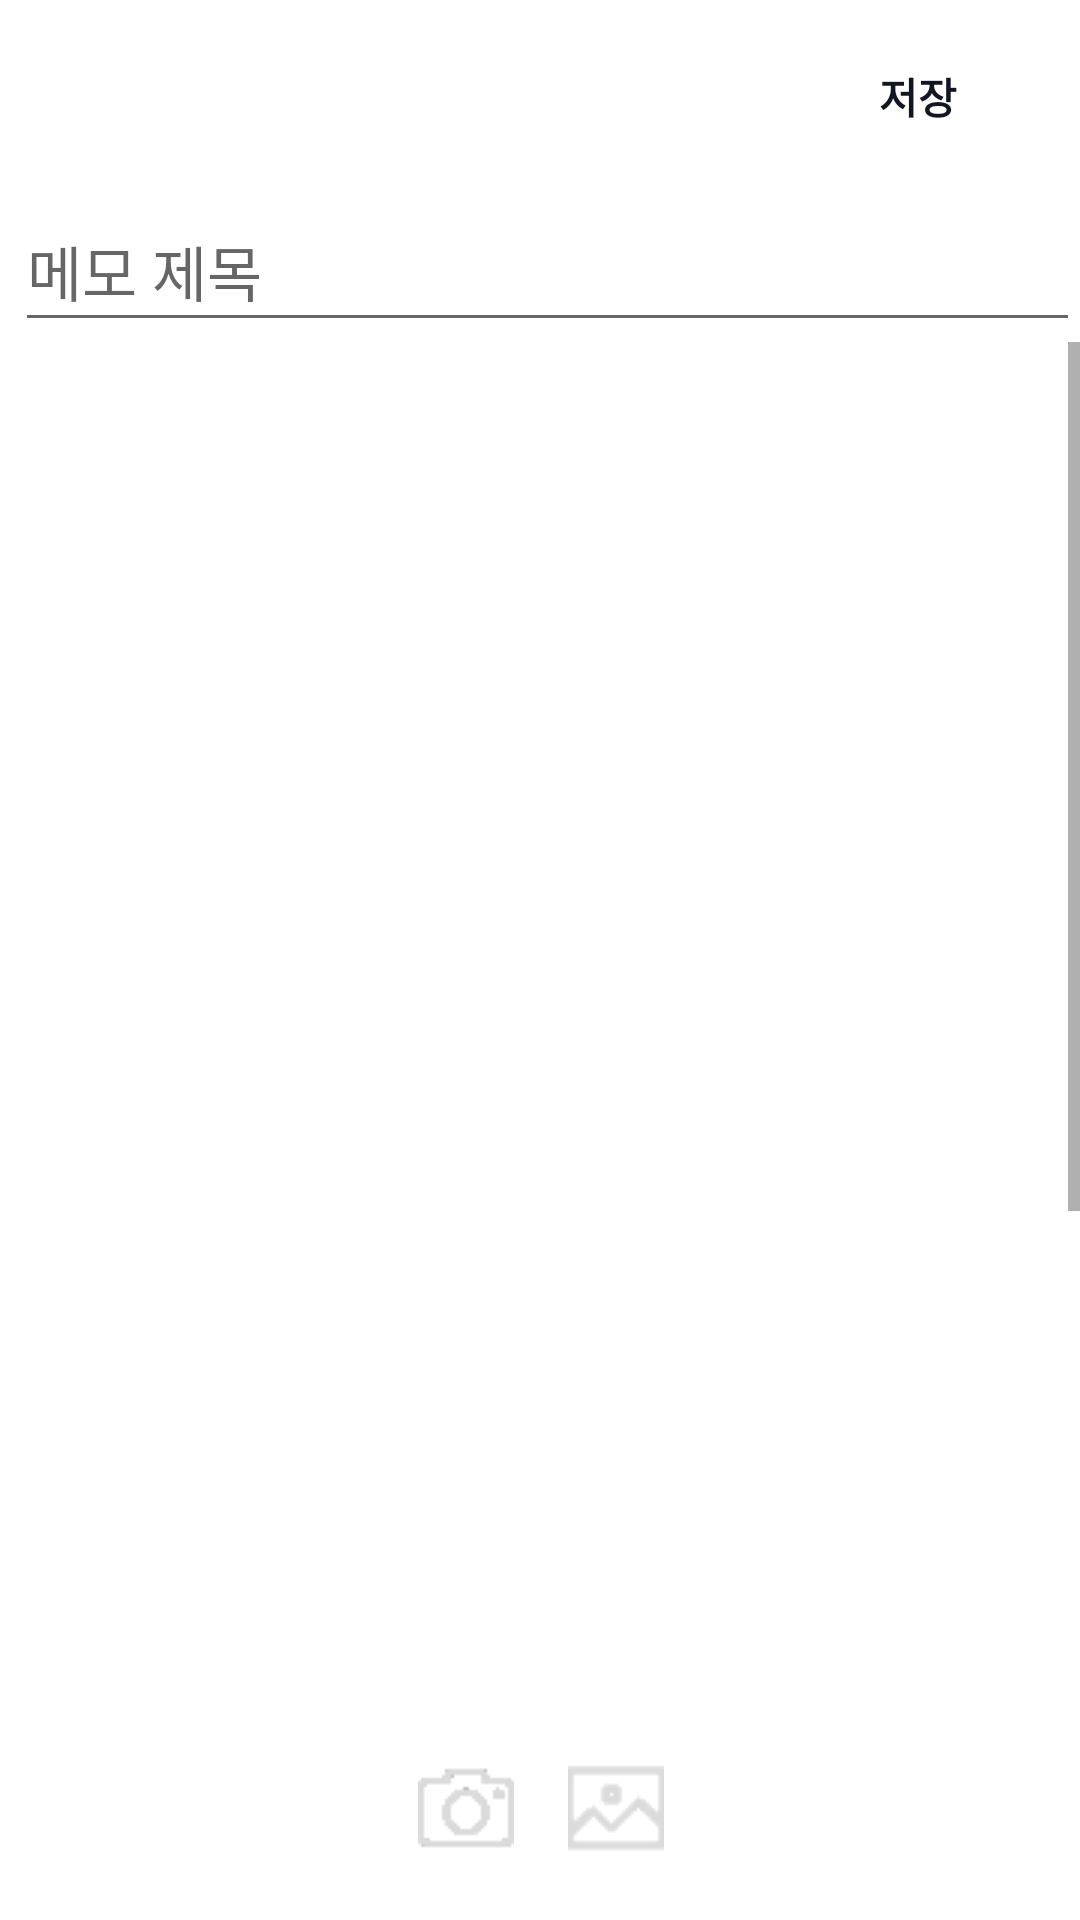

Where to tap for icons on this 1080*1920 app screen, as (x=x, y=y):
camera: (x=466, y=1808)
photo: (x=616, y=1808)
